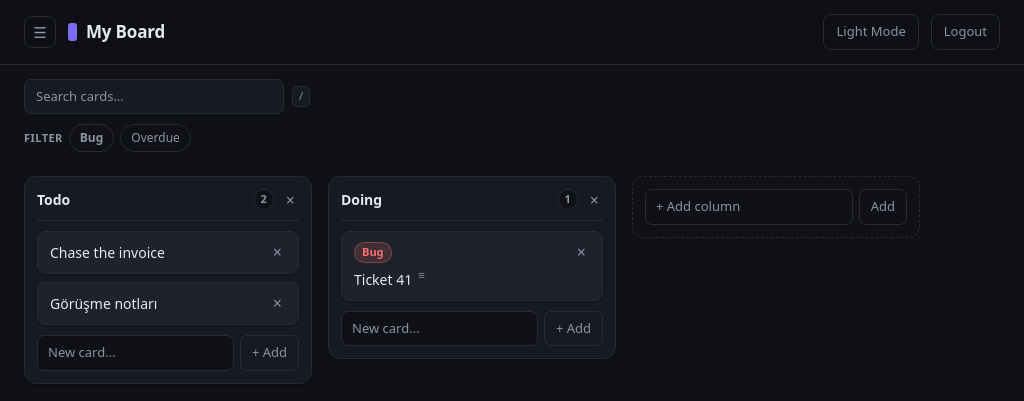
it: searching the board › keeps the cards that match and hides the rest
The image size is (1024, 401).
Expected: the heading "Todo" is shown, x1=37 y1=190 x2=70 y2=209
Type "invoice" into the search field labelled "Search cards" at (154, 96), box x1=24 y1=78 x2=284 y2=114
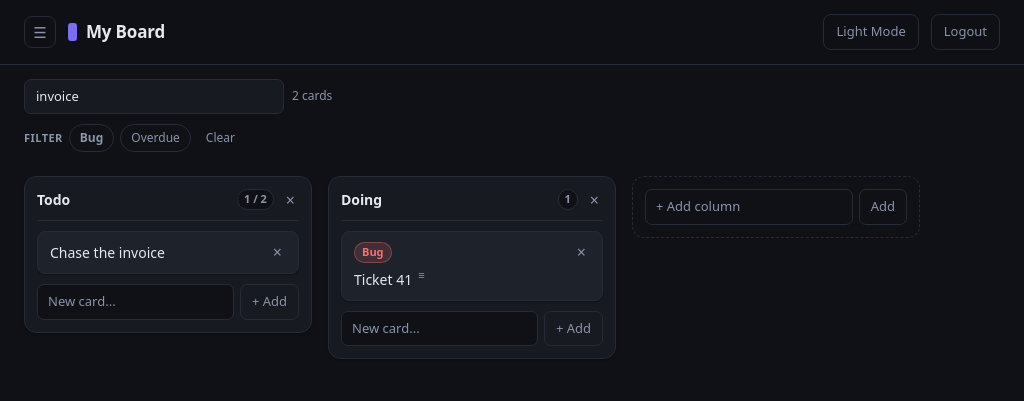
Expected: the text "Chase the invoice" is shown, x1=50 y1=242 x2=165 y2=263
Expected: the button "Görüşme notları" is gone
